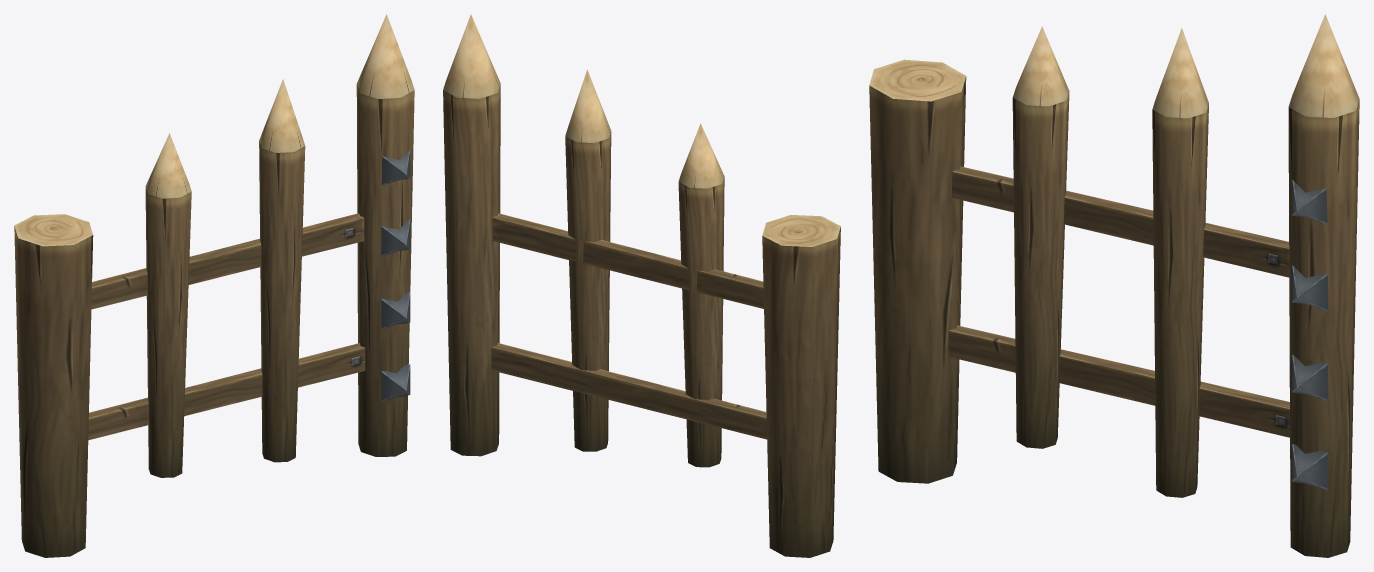
Rendered from gates_09_left.fbx.
3 views of the same model, side by side, from view 1: azimuth 30°, elevation 25°; view 2: azimuth 150°, elevation 25°; view 3: azimuth 330°, elevation 25° (orthographic). The views are drawn at different scales.
Parts seen in each view (by area): view 1: gates_09_left:Mesh; view 2: gates_09_left:Mesh; view 3: gates_09_left:Mesh.
Boxes of the visible parts, x1,y1,x2,y2 form: gates_09_left:Mesh: [14, 14, 414, 557]; gates_09_left:Mesh: [443, 14, 840, 557]; gates_09_left:Mesh: [869, 14, 1359, 557].
Bounding box in the file's own units: 4.38 × 4.79 × 0.8172.
